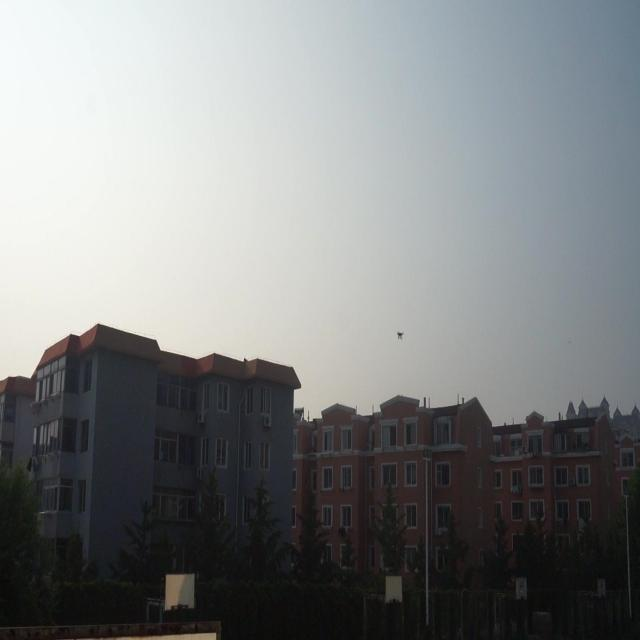UAV: (396, 331, 405, 340)
